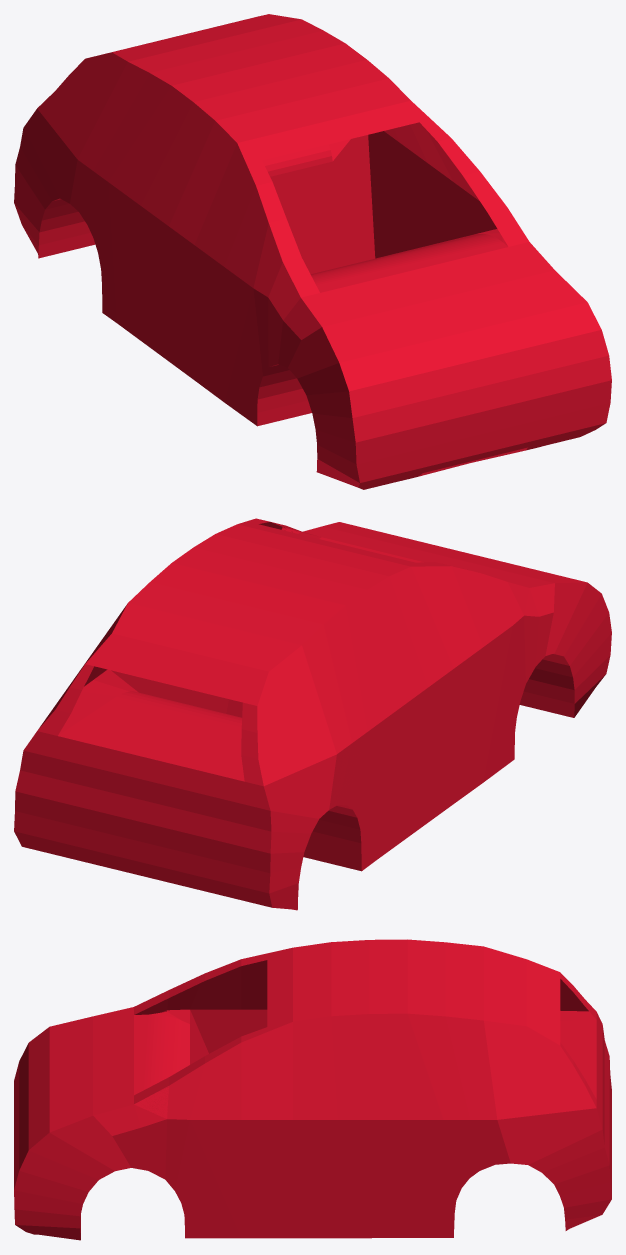
The model's file is body.fbx.
3 views of the same model, one above another, from view 1: azimuth 30°, elevation 25°; view 2: azimuth 150°, elevation 25°; view 3: azimuth 270°, elevation 25° (orthographic). The views are drawn at different scales.
Visible parts, largest first — view 1: Plane; view 2: Plane; view 3: Plane.
Boxes of the visible parts, box(x1,y1,x2,y2) form: Plane: box(14, 14, 611, 489); Plane: box(14, 518, 611, 910); Plane: box(14, 939, 611, 1240).
Bounding box in the file's own units: 170 × 152 × 388.
